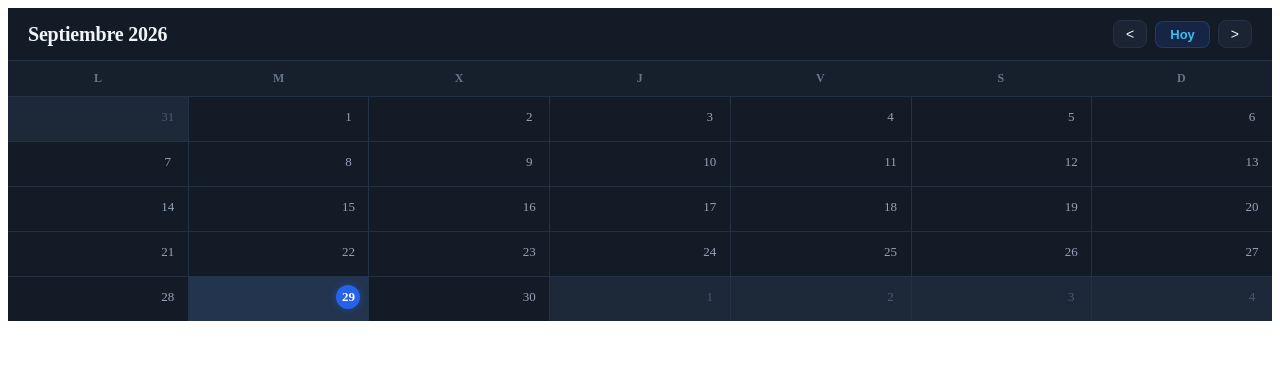
MonthlyCalendarGrid Component › debería retroceder al mes anterior al hacer clic en [<]
Click the button named "mes anterior".
click(1130, 34)  # box x1=1113 y1=20 x2=1147 y2=48
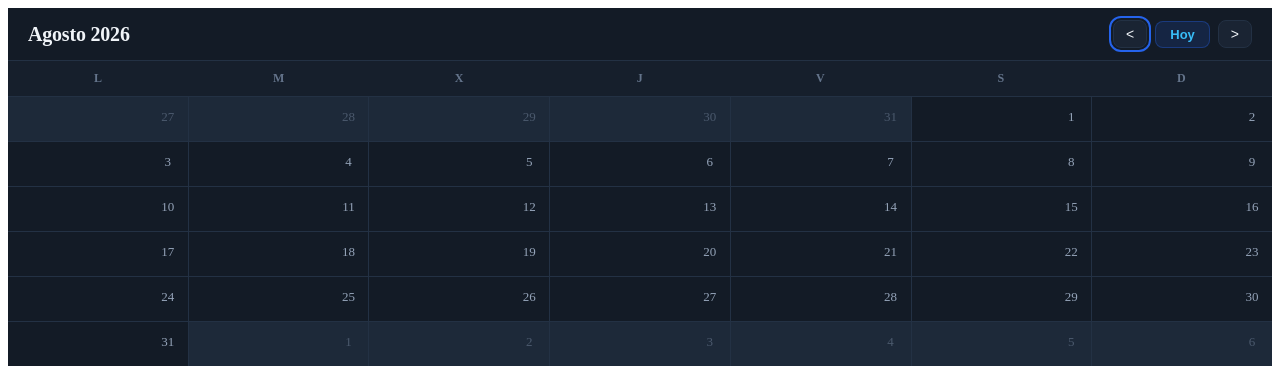
Now the heading reads "Agosto 2026", box x1=28 y1=22 x2=130 y2=46
